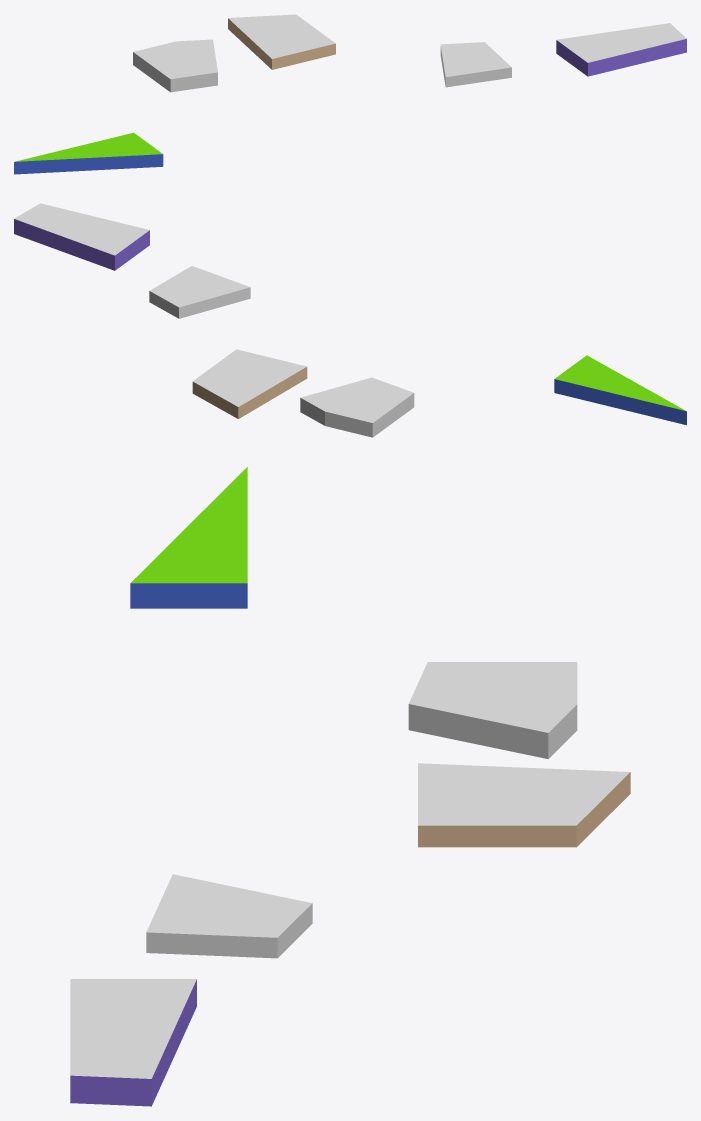
The model's file is BlocsMiroirBrut.fbx.
The picture shows the model from 3 angles, top to bottom: view 1: azimuth 30°, elevation 25°; view 2: azimuth 150°, elevation 25°; view 3: azimuth 270°, elevation 25°; orthographic projection. The views are drawn at different scales.
Visible parts, largest first — view 1: Cube.001, Cube.005, Cube.006, Cube.003, Cube.004; view 2: Cube.001, Cube.005, Cube.003, Cube.006, Cube.004; view 3: Cube.005, Cube.001, Cube.003, Cube.004, Cube.006.
Part boxes in pixels (bbox=[...]): Cube.001: bbox=[556, 23, 686, 76]; Cube.005: bbox=[228, 14, 335, 69]; Cube.006: bbox=[14, 132, 163, 174]; Cube.003: bbox=[133, 39, 217, 92]; Cube.004: bbox=[440, 42, 511, 87]; Cube.001: bbox=[14, 203, 149, 270]; Cube.005: bbox=[192, 349, 307, 418]; Cube.003: bbox=[300, 377, 414, 437]; Cube.006: bbox=[554, 355, 686, 425]; Cube.004: bbox=[149, 266, 250, 318]; Cube.005: bbox=[418, 763, 630, 847]; Cube.001: bbox=[70, 979, 196, 1106]; Cube.003: bbox=[408, 662, 577, 759]; Cube.004: bbox=[146, 874, 312, 958]; Cube.006: bbox=[130, 467, 247, 608].
Size of the model in its own units: 241 by 5.4 by 92.42.
